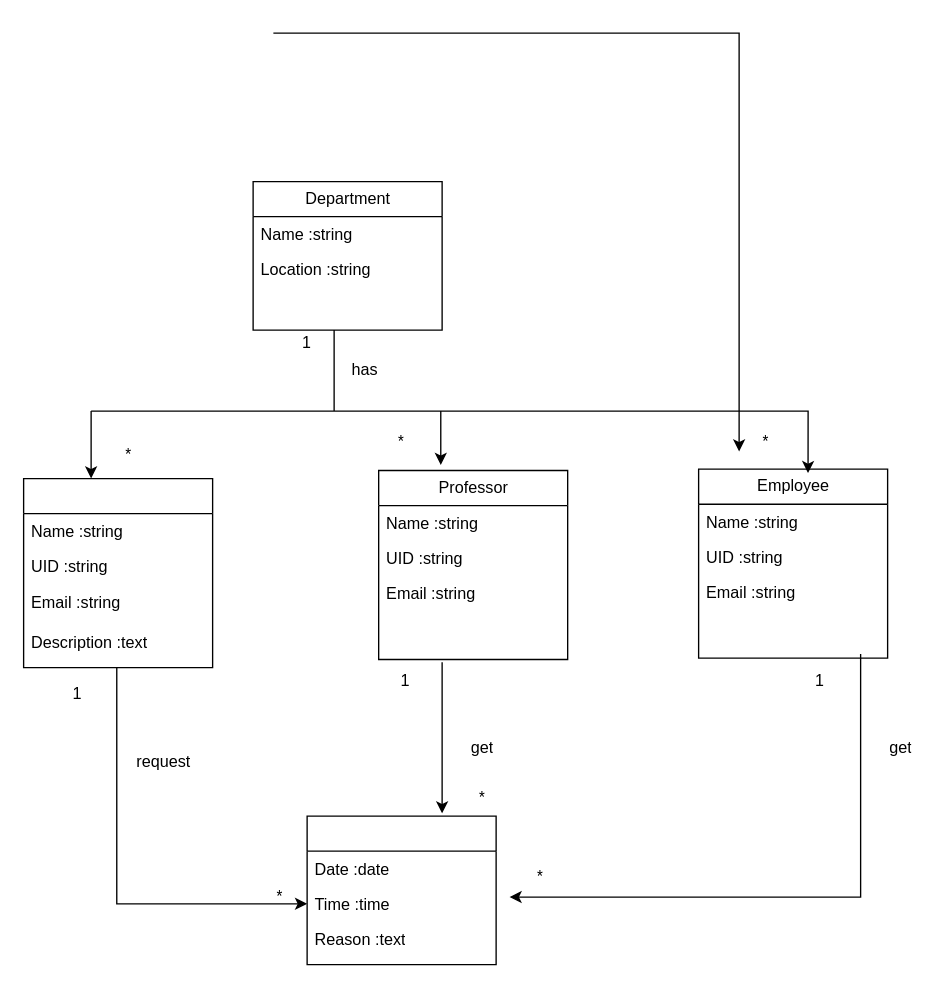
This 952x988 diagram has some shape labels left out. The box of each missing label's shape, as (x1, y1, x2, y2) in pixels:
Appointment: (306, 815, 496, 965)
Student: (22, 477, 213, 668)
